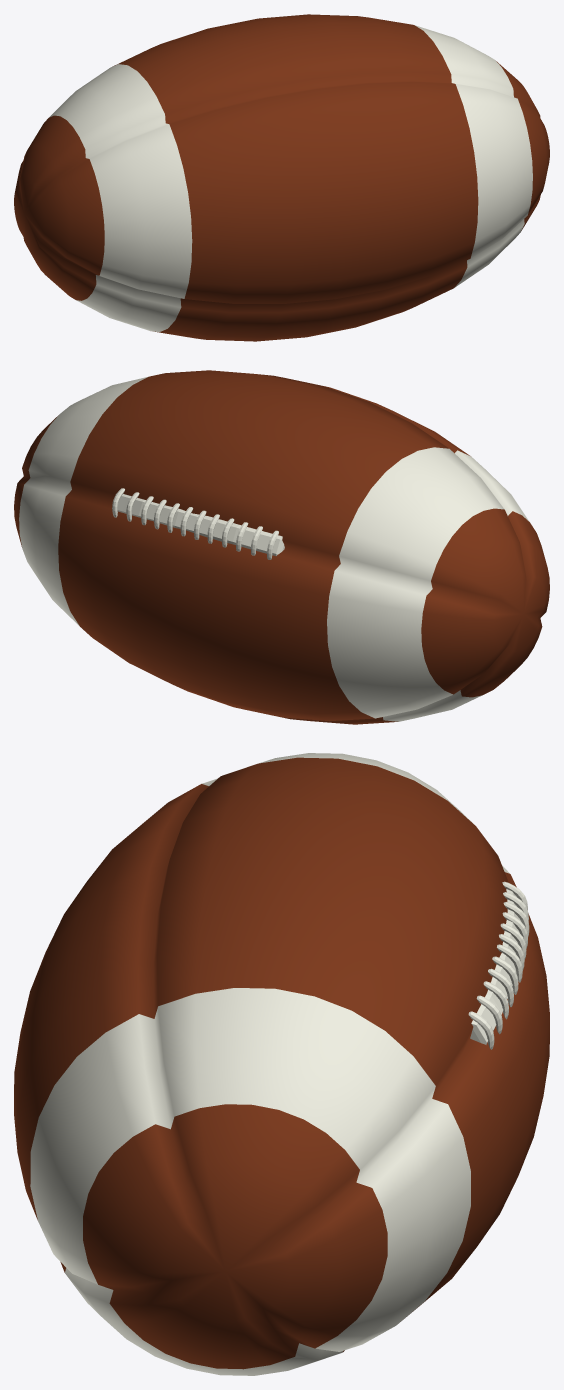
Rendered from USAball.fbx.
3 renders of one model, top to bottom at view 1: azimuth 30°, elevation 25°; view 2: azimuth 150°, elevation 25°; view 3: azimuth 270°, elevation 25°, orthographic. The views are drawn at different scales.
Visible parts, largest first — view 1: Sphere; view 2: Sphere; view 3: Sphere.
Boxes of the visible parts, x1,y1,x2,y2 form: Sphere: [14, 14, 549, 341]; Sphere: [14, 370, 549, 724]; Sphere: [14, 753, 549, 1375].
Bounding box in the file's own units: 460 × 261 × 272.
Materials: 2 (2 with a texture image).
